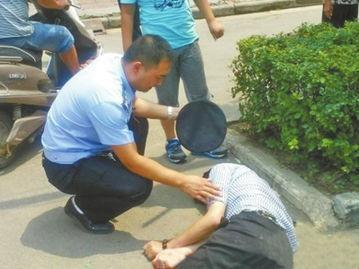Fall-Detected: (132, 151, 301, 268)
